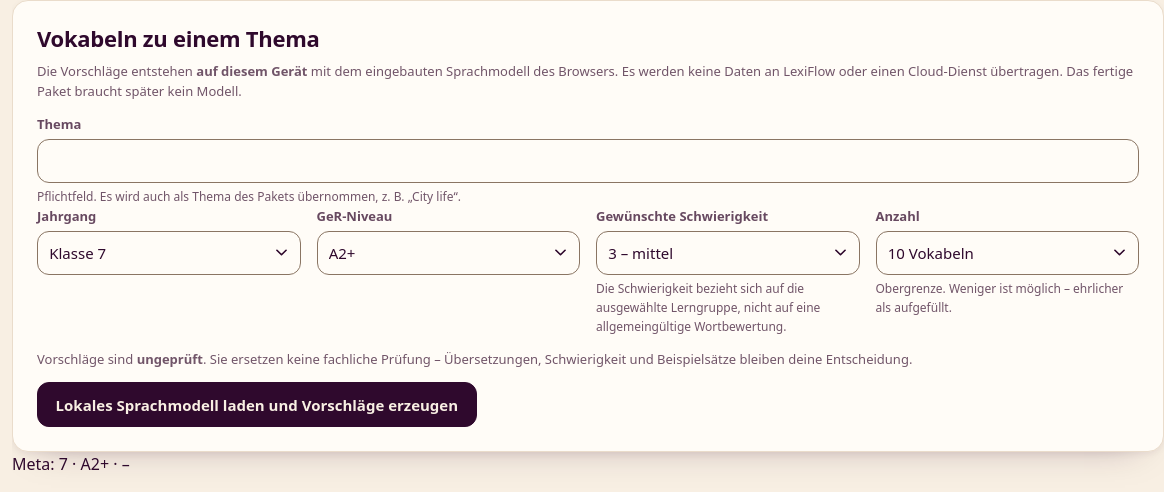
Eingaben › gibt Jahrgang und Niveau nach oben weiter
Step 1. Select "Klasse 9" in the dropdown labelled "Jahrgang" → (169, 253), box [37,231,300,275]
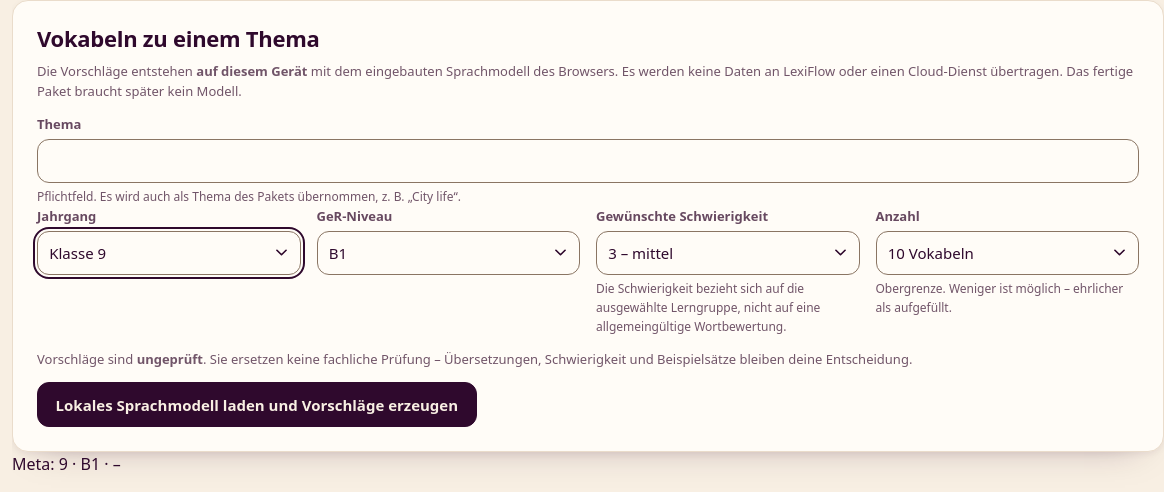
Expected: the text "Meta: 9 · B1 · –" is shown, [12,453,121,475]
Step 2. Select "B2" in the dropdown labelled "GeR-Niveau" → (448, 253), box [316,231,580,275]
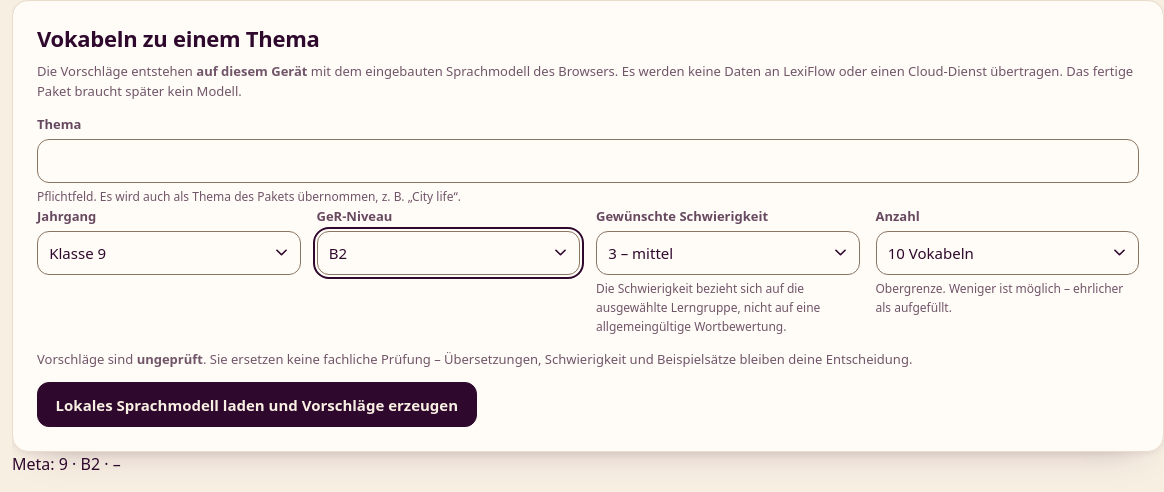
Expected: the text "Meta: 9 · B2 · –" is shown, [12,453,121,475]
Step 3. Type "City life" into the field labelled "Thema" → (588, 161), box [37,139,1139,183]
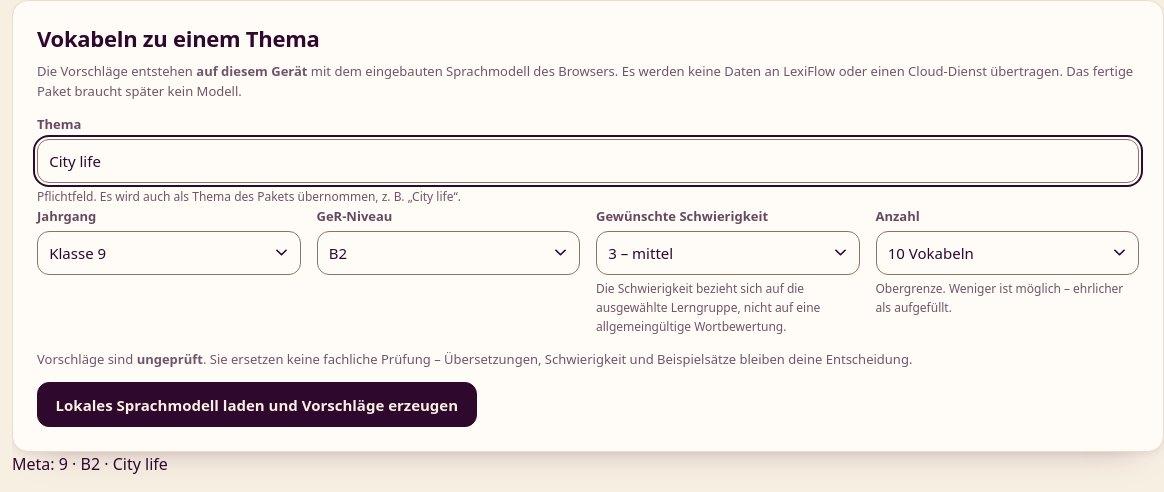
Expected: the text "Meta: 9 · B2 · City life" is shown, [12,453,168,475]
